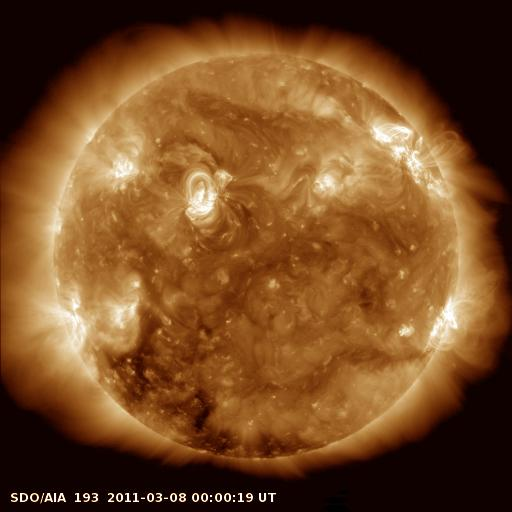coronal_hole: (168, 382, 326, 465)
